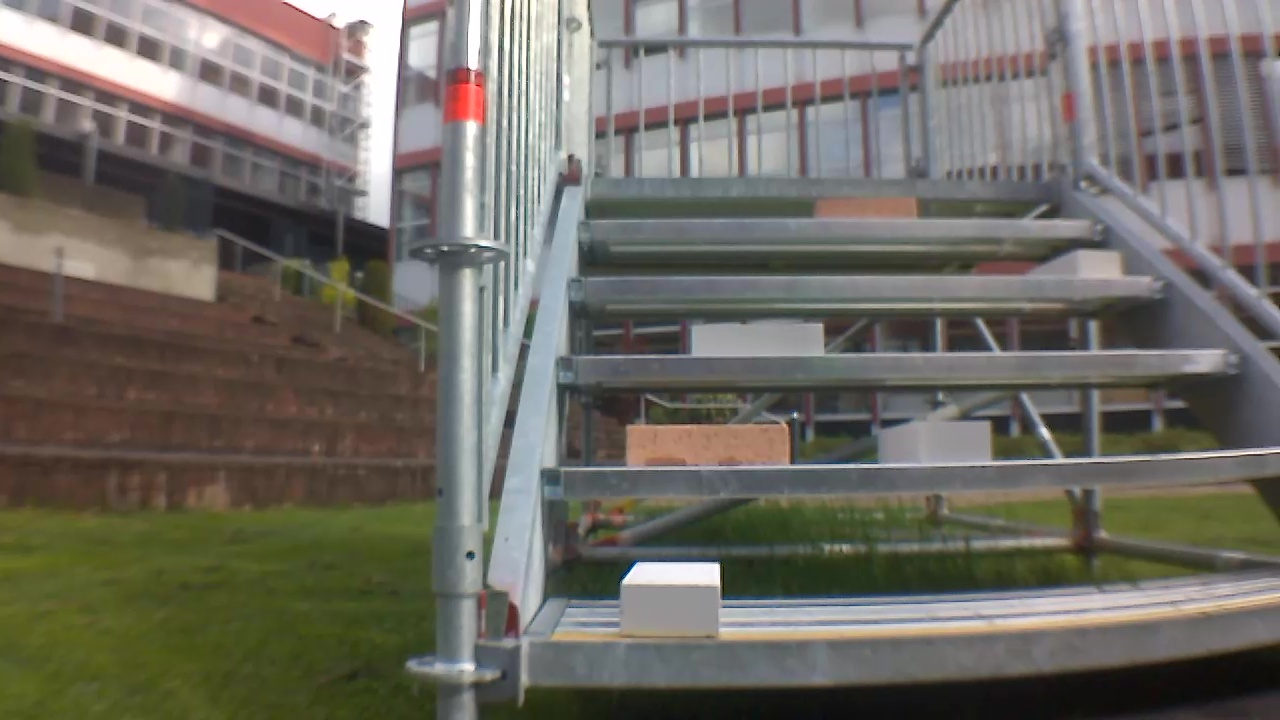brick: (620, 562, 720, 634), (625, 424, 788, 465), (878, 423, 990, 463), (692, 322, 823, 355), (1028, 249, 1119, 274), (814, 196, 913, 217)
edge: (530, 605, 1279, 688), (544, 448, 1280, 496), (558, 349, 1248, 378), (567, 274, 1169, 297), (583, 219, 1106, 240), (592, 178, 1058, 198)
stairs: (424, 2, 1280, 720)
steps: (521, 169, 1280, 695)
